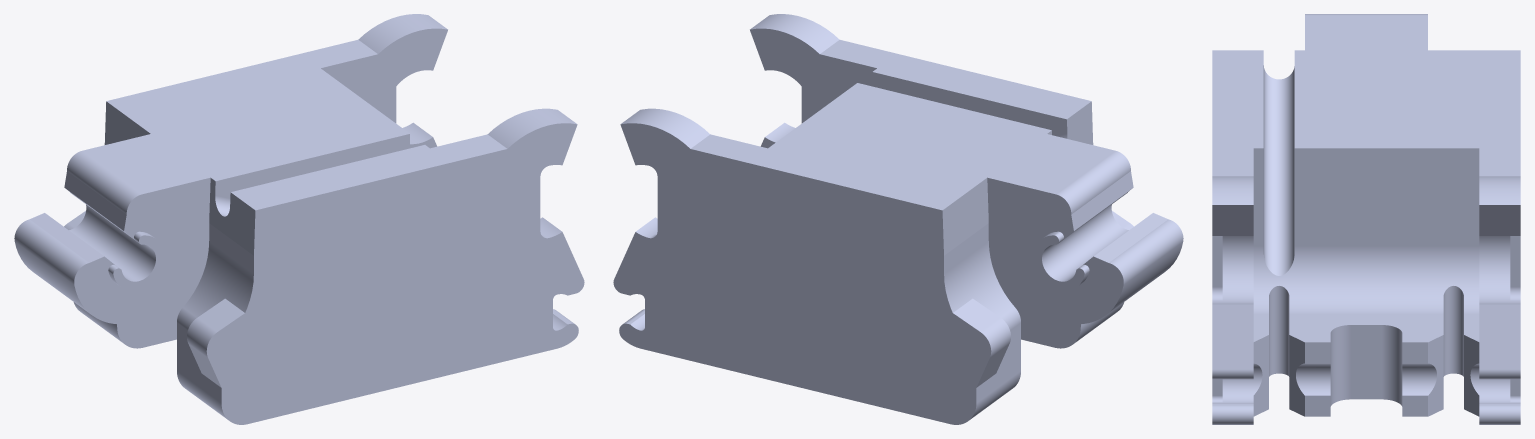
Rendered from FingerLink.obj.
The picture shows the model from 3 angles, left to right: view 1: azimuth 30°, elevation 25°; view 2: azimuth 150°, elevation 25°; view 3: azimuth 270°, elevation 25°; orthographic projection. The views are drawn at different scales.
Visible parts, largest first — view 1: mesh117, mesh37, mesh50, mesh33, mesh64, mesh31, mesh47, mesh11, mesh15, mesh40, mesh28, mesh34 (+12 smaller); view 2: mesh75, mesh37, mesh42, mesh33, mesh107, mesh30, mesh47, mesh25, mesh27, mesh15, mesh40, mesh38 (+12 smaller); view 3: mesh37, mesh36, mesh98, mesh33, mesh29, mesh89, mesh87, mesh55, mesh118, mesh56, mesh110, mesh86 (+32 smaller).
Part boxes in pixels (x1,y1,x2,y2): mesh117: (206,123,584,424); mesh37: (82,40,409,194); mesh50: (74,177,210,324); mesh33: (231,134,506,210); mesh64: (321,28,447,148); mesh31: (215,134,409,198); mesh47: (69,204,155,281); mesh11: (183,241,253,317); mesh15: (14,219,88,284); mesh40: (67,151,141,214); mesh28: (209,178,255,255); mesh34: (487,108,576,148); mesh75: (613,123,991,424); mesh37: (691,83,1115,210); mesh42: (987,177,1123,324); mesh33: (820,40,1091,119); mesh107: (750,28,876,148); mesh30: (872,72,1067,135); mesh47: (1042,204,1128,281); mesh25: (944,241,1014,317); mesh27: (942,178,988,255); mesh15: (1109,219,1183,284); mesh40: (1056,151,1130,214); mesh38: (621,108,710,148); mesh37: (1294,15,1520,176); mesh36: (1294,148,1479,245); mesh98: (1253,246,1479,314); mesh33: (1212,50,1263,176); mesh29: (1263,65,1294,275); mesh89: (1289,314,1443,342); mesh87: (1351,325,1381,399); mesh55: (1479,236,1520,304); mesh118: (1212,236,1253,304); mesh56: (1479,304,1520,350); mesh110: (1212,304,1253,350); mesh86: (1382,325,1402,406).
Bounding box in the file's own units: 0.054 × 0.025 × 0.03.
